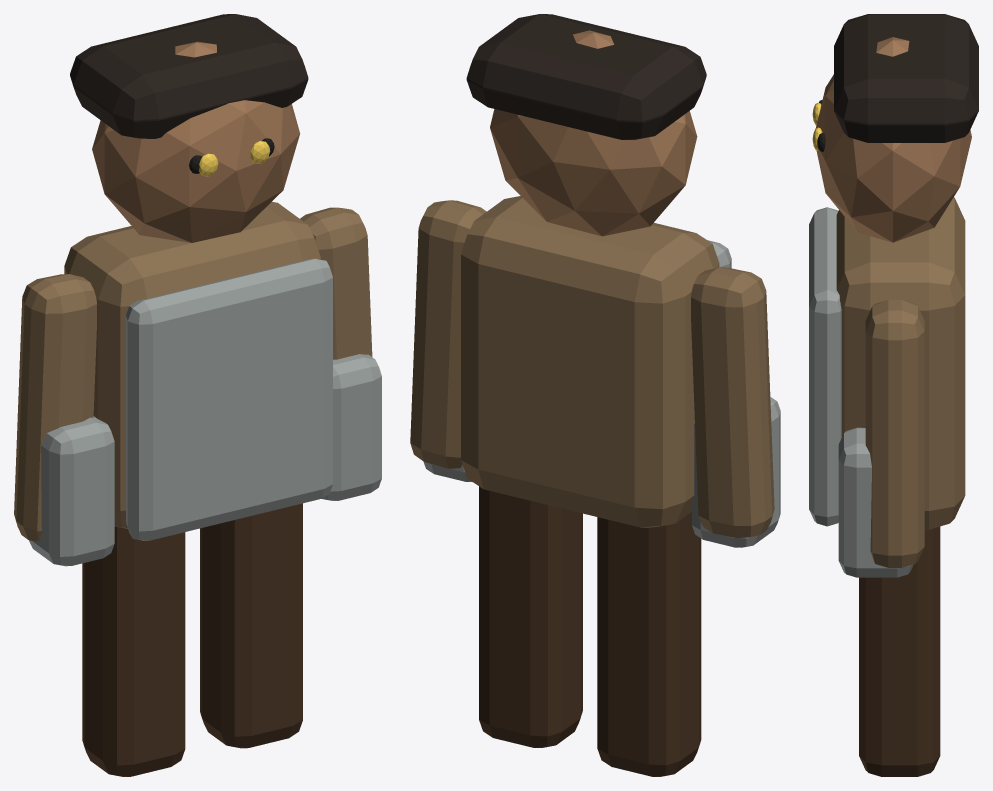
The model's file is oscar_4182.glb.
The picture shows the model from 3 angles, left to right: view 1: azimuth 30°, elevation 25°; view 2: azimuth 150°, elevation 25°; view 3: azimuth 270°, elevation 25°; orthographic projection. The views are drawn at different scales.
Visible parts, largest first — view 1: Guild breastplate, Booted leg, Booted leg.001, Head, Hair, Fitted torso, Detailed arm, Guildmaster bracer, Guildmaster bracer.001, Detailed arm.001; view 2: Fitted torso, Booted leg, Booted leg.001, Hair, Detailed arm, Head, Detailed arm.001, Guildmaster bracer; view 3: Fitted torso, Booted leg.001, Hair, Detailed arm.001, Head, Guild breastplate, Guildmaster bracer.001.
Boxes of the visible parts, bbox=[...] form: Guild breastplate: bbox=[126, 258, 332, 540]; Booted leg: bbox=[82, 526, 185, 776]; Booted leg.001: bbox=[200, 503, 302, 748]; Head: bbox=[92, 41, 300, 242]; Hair: bbox=[70, 14, 308, 138]; Fitted torso: bbox=[64, 201, 320, 528]; Detailed arm: bbox=[14, 274, 97, 541]; Guildmaster bracer: bbox=[29, 416, 114, 566]; Guildmaster bracer.001: bbox=[321, 354, 381, 500]; Detailed arm.001: bbox=[300, 207, 372, 359]; Fitted torso: bbox=[461, 196, 719, 527]; Booted leg: bbox=[597, 512, 701, 776]; Booted leg.001: bbox=[479, 486, 582, 747]; Hair: bbox=[466, 14, 706, 139]; Detailed arm: bbox=[691, 267, 774, 538]; Head: bbox=[490, 30, 697, 236]; Detailed arm.001: bbox=[410, 200, 486, 468]; Guildmaster bracer: bbox=[692, 397, 780, 547]; Fitted torso: bbox=[836, 197, 965, 529]; Booted leg.001: bbox=[859, 526, 940, 776]; Hair: bbox=[834, 14, 978, 142]; Detailed arm.001: bbox=[865, 300, 924, 567]; Head: bbox=[815, 37, 971, 242]; Guild breastplate: bbox=[809, 207, 841, 526]; Guildmaster bracer.001: bbox=[838, 427, 913, 577].
Size of the model in its own units: 1.76 by 3.4 by 0.75.
